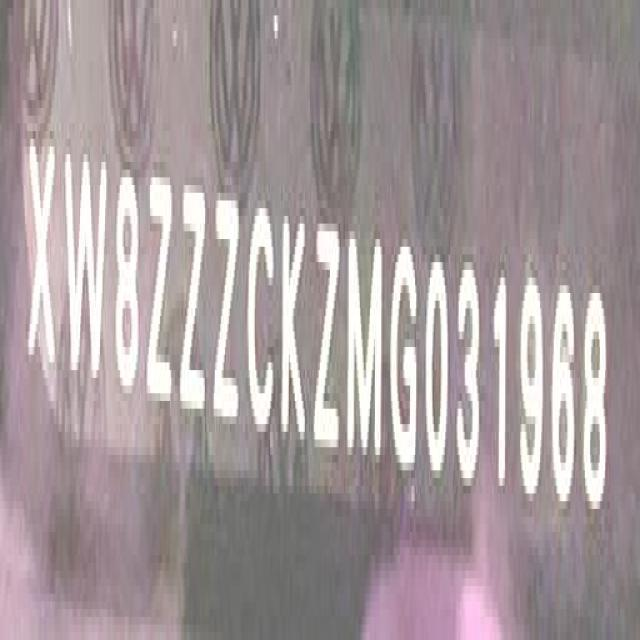0: (424, 243, 452, 484)
1: (489, 258, 508, 496)
3: (454, 252, 480, 493)
6: (553, 276, 578, 510)
8: (585, 284, 611, 519), (117, 158, 141, 403)
9: (519, 272, 545, 505)
C: (249, 193, 276, 445)
G: (389, 225, 419, 470)
K: (280, 198, 308, 450)
M: (346, 219, 384, 468)
W: (66, 143, 106, 396)
X: (26, 128, 56, 388)
Z: (212, 178, 242, 435), (314, 205, 341, 464), (182, 163, 208, 425), (146, 158, 171, 418)
